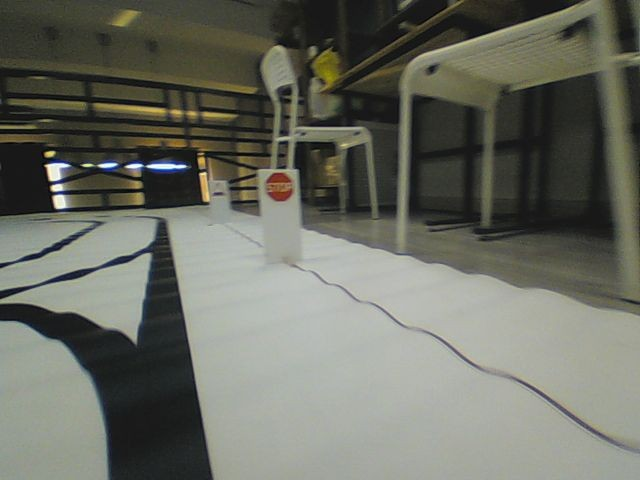Stop: (265, 170, 294, 203)
